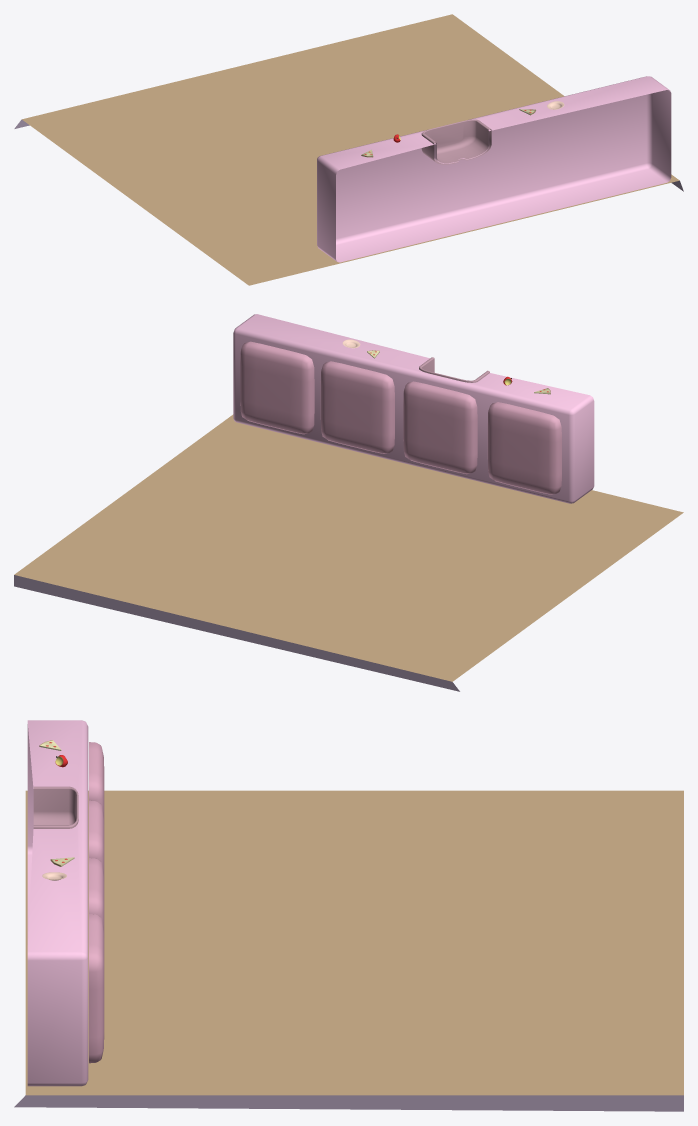
Rendered from Kitchen02.fbx.
3 renders of one model, top to bottom at view 1: azimuth 30°, elevation 25°; view 2: azimuth 150°, elevation 25°; view 3: azimuth 270°, elevation 25°, orthographic. The views are drawn at different scales.
Parts seen in each view (by area): view 1: Cube.002, dolap.alt.002; view 2: Cube.002, dolap.alt.002; view 3: Cube.002, dolap.alt.002.
Boxes of the visible parts, x1,y1,x2,y2 form: Cube.002: (14, 14, 683, 285); dolap.alt.002: (317, 76, 671, 262); Cube.002: (14, 414, 683, 691); dolap.alt.002: (233, 314, 594, 503); Cube.002: (14, 790, 683, 1111); dolap.alt.002: (27, 720, 104, 1086).
Size of the model in its own units: 1245 by 310 by 1137.
